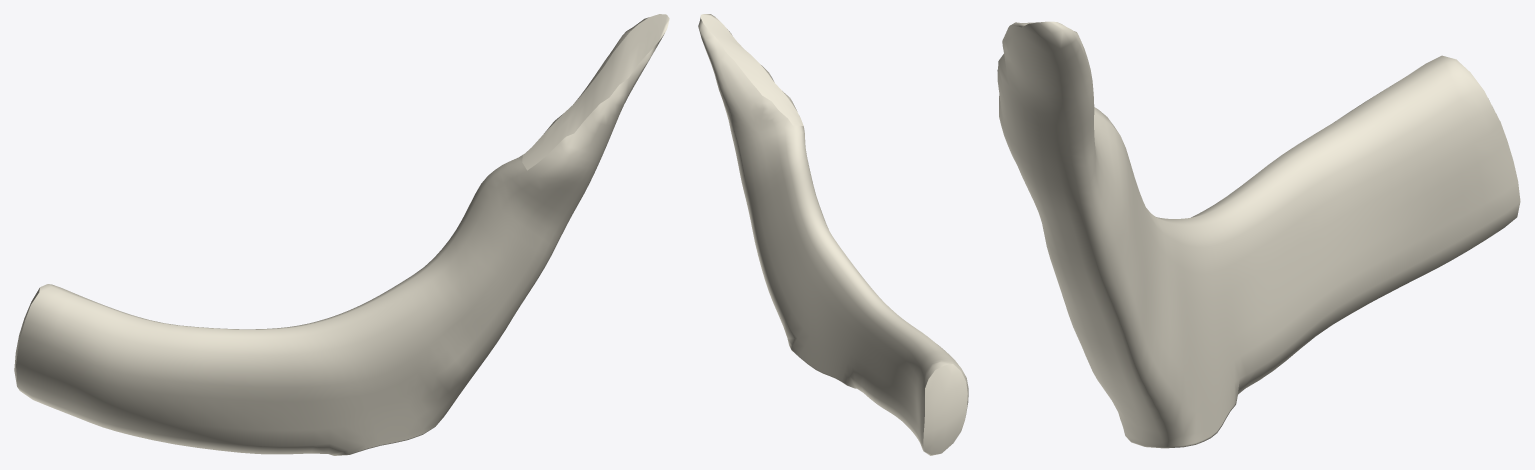
3 renders of one model, left to right at view 1: azimuth 30°, elevation 25°; view 2: azimuth 150°, elevation 25°; view 3: azimuth 270°, elevation 25°, orthographic. The views are drawn at different scales.
Parts seen in each view (by area): view 1: ZA_876fb154a26ebe40; view 2: ZA_876fb154a26ebe40; view 3: ZA_876fb154a26ebe40.
Part boxes in pixels (x1=…): ZA_876fb154a26ebe40: x1=14, y1=14, x2=669, y2=455; ZA_876fb154a26ebe40: x1=698, y1=14, x2=968, y2=455; ZA_876fb154a26ebe40: x1=997, y1=21, x2=1520, y2=448.
Bounding box in the file's own units: 0.0815 × 0.0623 × 0.0502.
